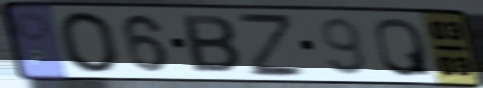6: (120, 12, 171, 75)
9: (317, 15, 371, 78)
B: (180, 13, 245, 76)
O: (54, 9, 124, 76)
Q: (372, 15, 435, 79)
Z: (233, 10, 310, 79)
